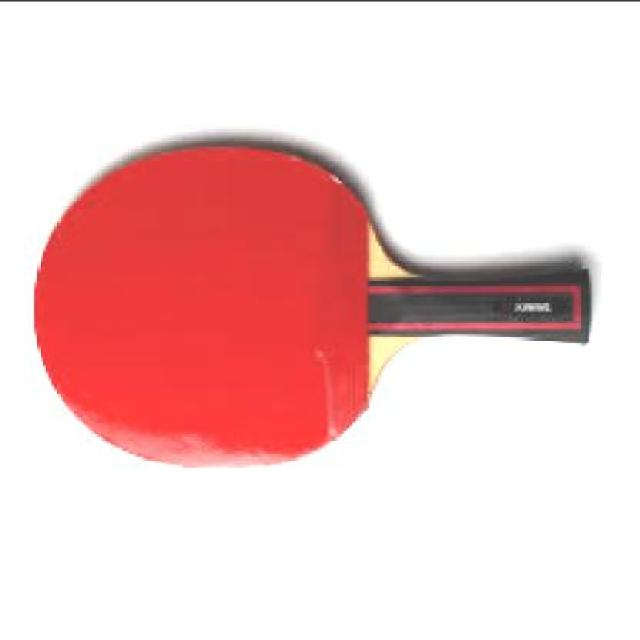table_tennis_racket: (31, 135, 415, 470)
